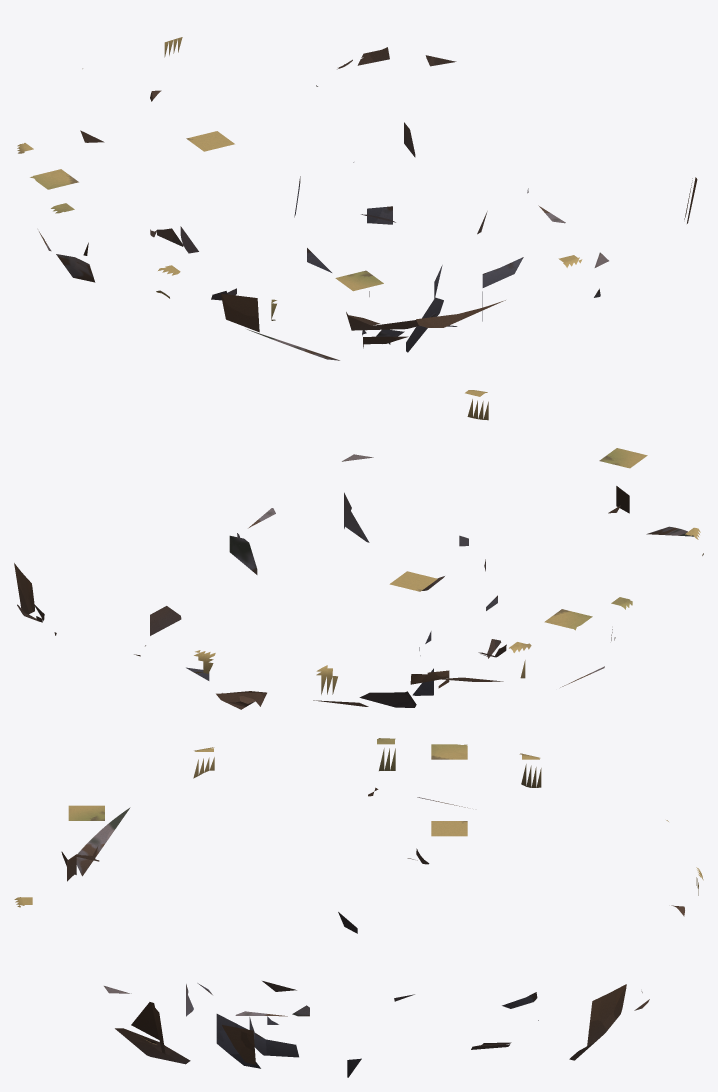
3 renders of one model, top to bottom at view 1: azimuth 30°, elevation 25°; view 2: azimuth 150°, elevation 25°; view 3: azimuth 270°, elevation 25°, orthographic.
Parts seen in each view (by area): view 1: Dirt_-4_-4_0_010, Grass_-2_1_0_000, Columns_-5_0_-1_100_011, Grass_-3_-4_0_100, Grass_-5_1_0_100; view 2: Dirt_-2_1_-1_011, Dirt_-1_4_-1_001, Columns_2_-1_-1_000, Grass_-2_1_0_000, Grass_-3_-4_0_100, Grass_-5_1_0_100, Dirt_1_1_-1_110_110; view 3: Dirt_3_3_0_001, Dirt_3_-3_-1_000, Columns_-4_-4_-1_101_011_111, Dirt_4_-2_0_001_111, Dirt_3_-3_0_101_001, Columns_0_-2_-2_100_111, Columns_1_-2_-2_111, Grass_-2_1_0_000, Grass_-3_-4_0_100, Grass_-5_1_0_100.
Boxes of the visible parts, left/top/right/bottom form: Dirt_-4_-4_0_010: left=221, top=293, right=259, bottom=332; Grass_-2_1_0_000: left=186, top=131, right=234, bottom=151; Columns_-5_0_-1_100_011: left=56, top=254, right=95, bottom=282; Grass_-3_-4_0_100: left=335, top=270, right=383, bottom=291; Grass_-5_1_0_100: left=30, top=169, right=78, bottom=189; Dirt_-2_1_-1_011: left=359, top=691, right=416, bottom=707; Dirt_-1_4_-1_001: left=216, top=691, right=266, bottom=709; Columns_2_-1_-1_000: left=229, top=533, right=257, bottom=574; Grass_-2_1_0_000: left=389, top=571, right=437, bottom=591; Grass_-3_-4_0_100: left=599, top=448, right=647, bottom=468; Grass_-5_1_0_100: left=544, top=609, right=592, bottom=630; Dirt_1_1_-1_110_110: left=150, top=606, right=181, bottom=635; Dirt_3_3_0_001: left=587, top=990, right=614, bottom=1045; Dirt_3_-3_-1_000: left=115, top=1028, right=190, bottom=1064; Columns_-4_-4_-1_101_011_111: left=76, top=807, right=130, bottom=876; Dirt_4_-2_0_001_111: left=222, top=1025, right=255, bottom=1064; Dirt_3_-3_0_101_001: left=131, top=1002, right=165, bottom=1054; Columns_0_-2_-2_100_111: left=216, top=1014, right=260, bottom=1068; Columns_1_-2_-2_111: left=254, top=1033, right=298, bottom=1057; Grass_-2_1_0_000: left=431, top=821, right=467, bottom=836; Grass_-3_-4_0_100: left=68, top=805, right=104, bottom=820; Grass_-5_1_0_100: left=431, top=744, right=467, bottom=759.
Size of the model in its own units: 595 by 160 by 609.
Materials: 68 (68 with a texture image).
